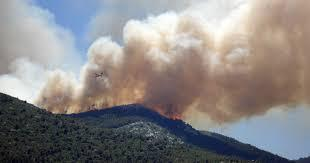yanwu: (28, 0, 310, 115)
